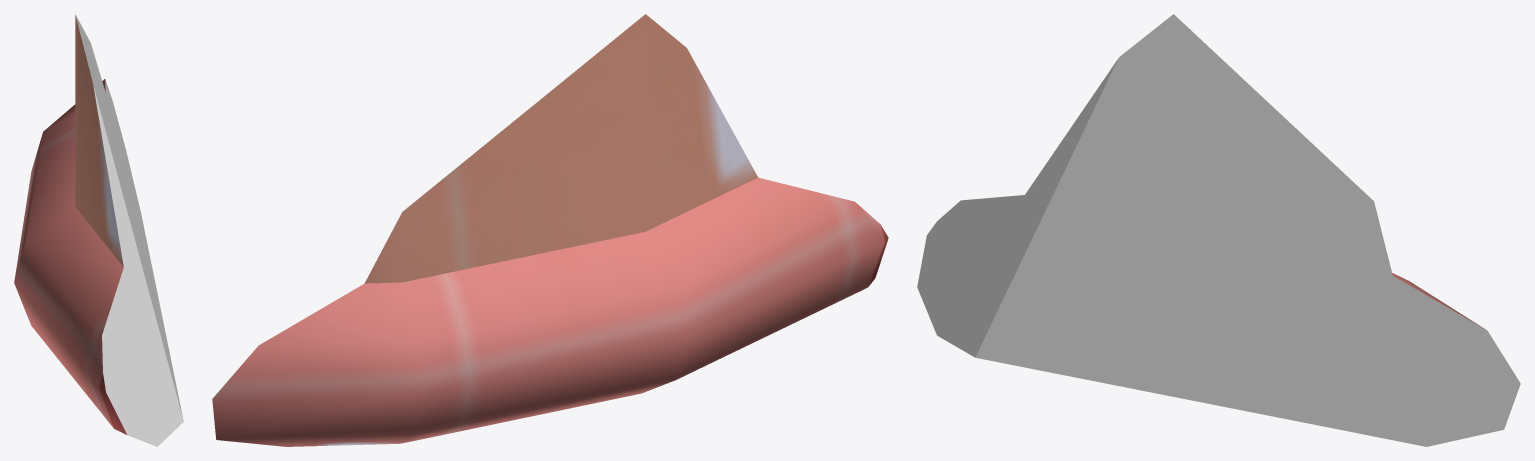
The model's file is LargeVase_SHAT_cell_009.fbx.
The picture shows the model from 3 angles, left to right: view 1: azimuth 30°, elevation 25°; view 2: azimuth 150°, elevation 25°; view 3: azimuth 270°, elevation 25°; orthographic projection. The views are drawn at different scales.
Visible parts, largest first — view 1: LargeVase_SHAT_cell_009; view 2: LargeVase_SHAT_cell_009; view 3: LargeVase_SHAT_cell_009.
Boxes of the visible parts, x1,y1,x2,y2 form: LargeVase_SHAT_cell_009: (14, 14, 183, 446); LargeVase_SHAT_cell_009: (212, 14, 888, 446); LargeVase_SHAT_cell_009: (917, 14, 1520, 446).
Bounding box in the file's own units: 0.2257 × 0.2355 × 0.38.
Materials: 2 (1 with a texture image).
